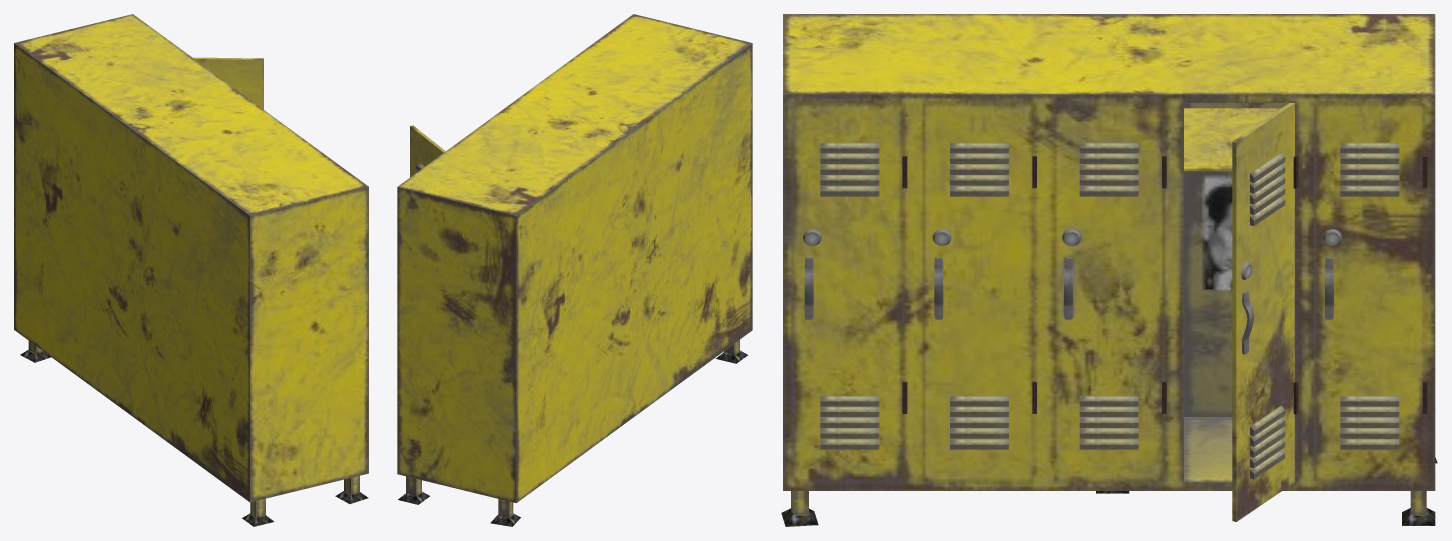
The picture shows the model from 3 angles, left to right: view 1: azimuth 30°, elevation 25°; view 2: azimuth 150°, elevation 25°; view 3: azimuth 270°, elevation 25°; orthographic projection. The views are drawn at different scales.
Visible parts, largest first — view 1: locker_merged; view 2: locker_merged; view 3: locker_merged.
Boxes of the visible parts, left/top/right/bottom form: locker_merged: left=14, top=14, right=368, bottom=526; locker_merged: left=397, top=14, right=752, bottom=526; locker_merged: left=781, top=14, right=1437, bottom=526.
Bounding box in the file's own units: 0.0591 × 0.0992 × 0.1365.
Materials: 1 (1 with a texture image).
